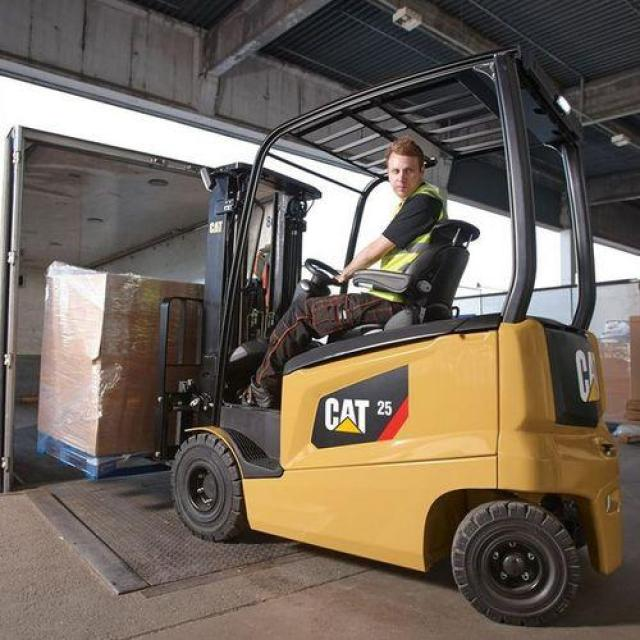box: (36, 237, 218, 480), (566, 324, 640, 427)
forklift: (168, 37, 638, 630)
person: (253, 127, 479, 443)
